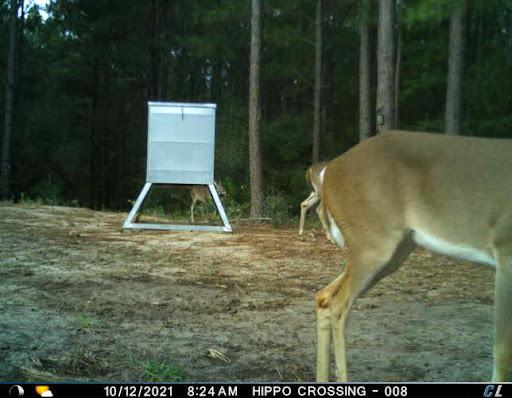Deer: (312, 123, 512, 384), (299, 154, 341, 247), (190, 176, 230, 220)
